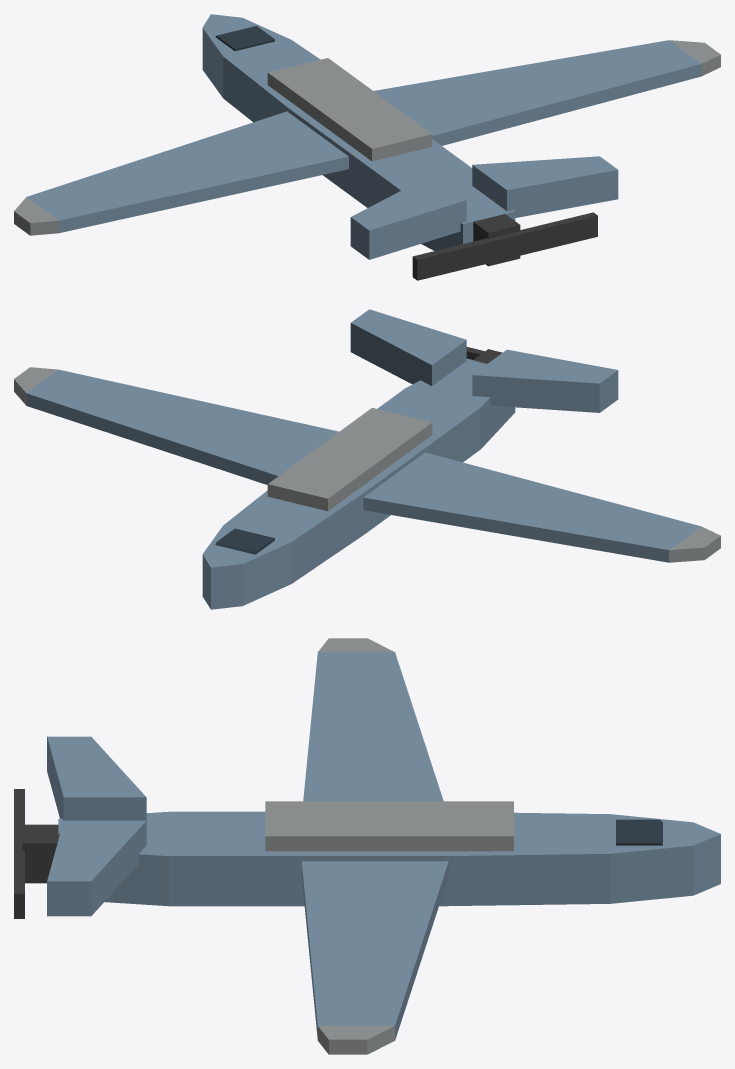
File: drone.glb
3 renders of one model, top to bottom at view 1: azimuth 30°, elevation 25°; view 2: azimuth 150°, elevation 25°; view 3: azimuth 270°, elevation 25°, orthographic. The views are drawn at different scales.
Visible parts, largest first — view 1: Drone; view 2: Drone; view 3: Drone.
Boxes of the visible parts, bbox=[...] form: Drone: bbox=[14, 14, 720, 280]; Drone: bbox=[14, 309, 720, 609]; Drone: bbox=[14, 638, 720, 1054].
Bounding box in the file's own units: 3.44 × 0.3 × 2.56.
